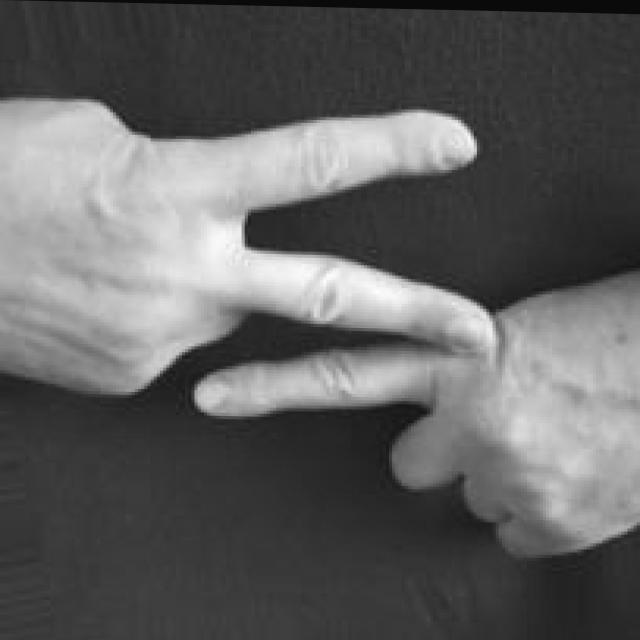Z: (0, 79, 640, 563)
